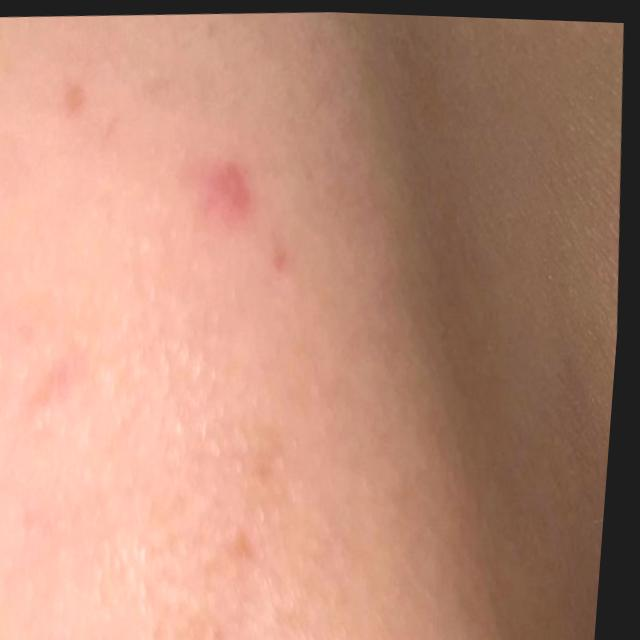papule: (179, 115, 300, 256)
